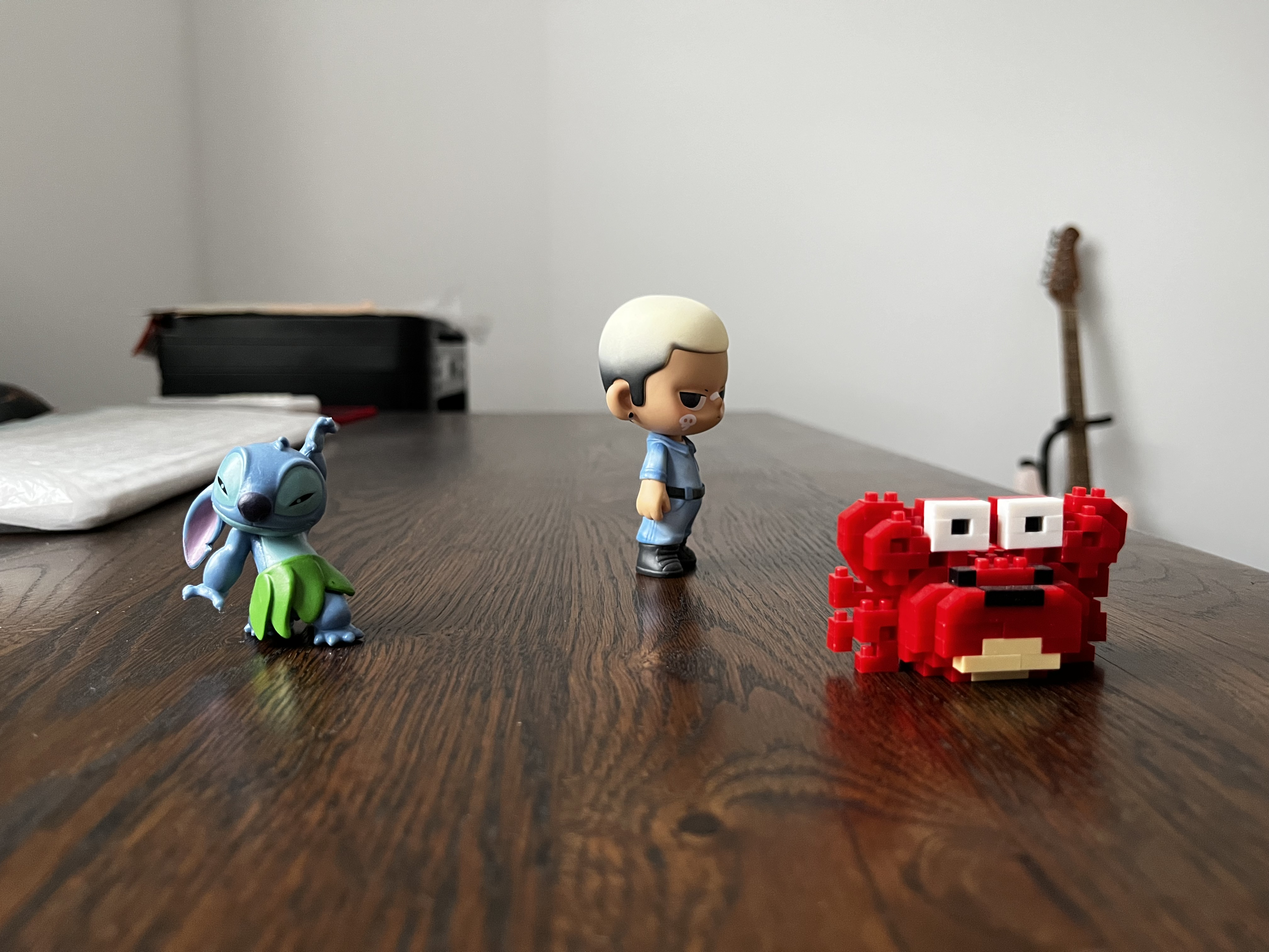crab: (823, 487, 1149, 690)
stitch: (165, 412, 389, 660)
worker: (586, 281, 753, 582)
